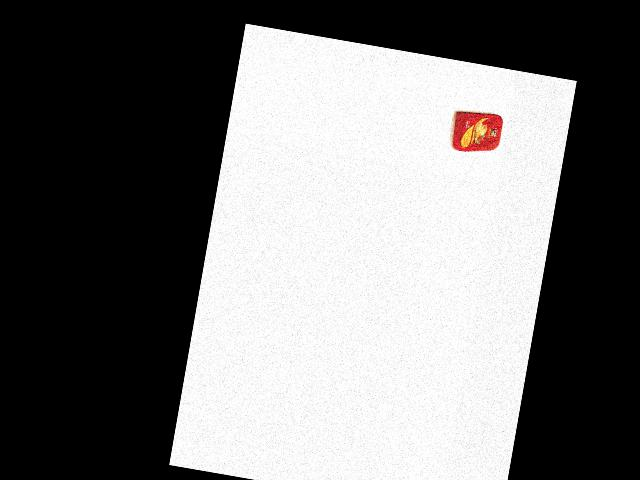cheese: (447, 105, 507, 157)
